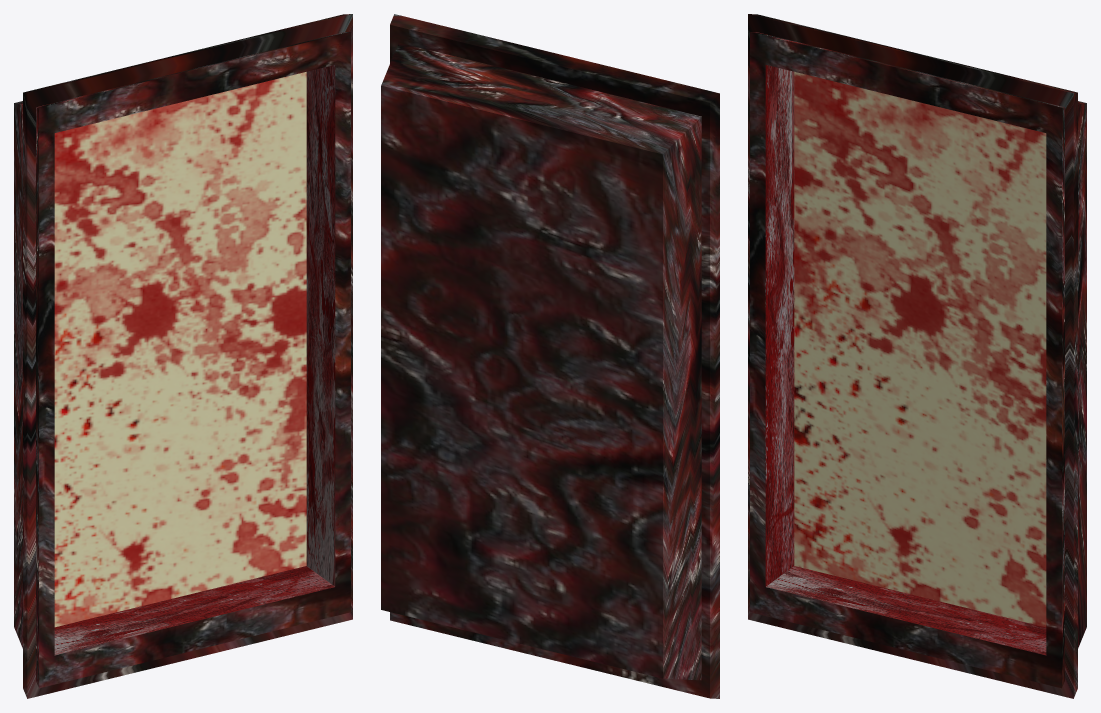
File: Table.obj
3 renders of one model, left to right at view 1: azimuth 30°, elevation 25°; view 2: azimuth 150°, elevation 25°; view 3: azimuth 330°, elevation 25°, orthographic.
Parts seen in each view (by area): view 1: Cube.002_Cube.002_Material.002, Cube.002_Cube.002_Material.000, Cube.002_Cube.002_Material.001; view 2: Cube.002_Cube.002_Material.000; view 3: Cube.002_Cube.002_Material.002, Cube.002_Cube.002_Material.000, Cube.002_Cube.002_Material.001.
Boxes of the visible parts, x1,y1,x2,y2 form: Cube.002_Cube.002_Material.002: [54, 72, 306, 627]; Cube.002_Cube.002_Material.000: [14, 14, 352, 698]; Cube.002_Cube.002_Material.001: [54, 65, 335, 655]; Cube.002_Cube.002_Material.000: [381, 14, 719, 698]; Cube.002_Cube.002_Material.002: [794, 72, 1046, 627]; Cube.002_Cube.002_Material.000: [748, 14, 1086, 698]; Cube.002_Cube.002_Material.001: [765, 65, 1046, 655].
Size of the model in its own units: 188 by 334 by 40.
